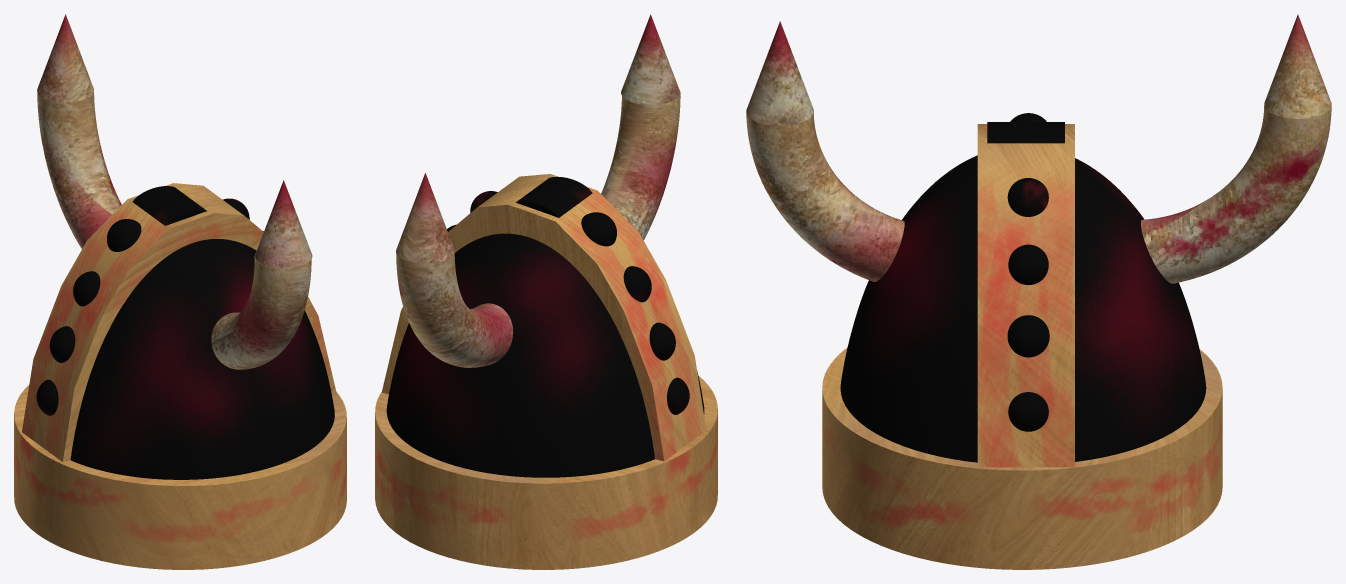
File: helmet.glb
3 renders of one model, left to right at view 1: azimuth 30°, elevation 25°; view 2: azimuth 150°, elevation 25°; view 3: azimuth 270°, elevation 25°, orthographic. The views are drawn at different scales.
Parts seen in each view (by area): view 1: Object_5, Object_7, Object_9, Object_37, Object_39, Object_35, Object_33, Object_31, Object_21, Object_19, Object_15, Object_11; view 2: Object_5, Object_7, Object_9, Object_37, Object_39, Object_35, Object_33, Object_31, Object_21, Object_19, Object_15, Object_11; view 3: Object_5, Object_7, Object_9, Object_37, Object_39, Object_35, Object_33, Object_31, Object_25, Object_27, Object_23, Object_29.
Part boxes in pixels (x1=…): Object_5: x1=70, y1=239, x2=334, y2=479; Object_7: x1=14, y1=385, x2=346, y2=569; Object_9: x1=22, y1=183, x2=336, y2=461; Object_37: x1=37, y1=92, x2=121, y2=248; Object_39: x1=211, y1=254, x2=311, y2=369; Object_35: x1=255, y1=180, x2=312, y2=268; Object_33: x1=37, y1=14, x2=93, y2=102; Object_31: x1=133, y1=186, x2=206, y2=225; Object_21: x1=107, y1=219, x2=141, y2=251; Object_19: x1=73, y1=271, x2=100, y2=306; Object_15: x1=49, y1=326, x2=75, y2=362; Object_11: x1=36, y1=379, x2=58, y2=415; Object_5: x1=386, y1=233, x2=704, y2=477; Object_7: x1=375, y1=376, x2=717, y2=569; Object_9: x1=381, y1=174, x2=706, y2=461; Object_37: x1=396, y1=252, x2=513, y2=367; Object_39: x1=601, y1=90, x2=680, y2=240; Object_35: x1=621, y1=14, x2=680, y2=104; Object_33: x1=396, y1=173, x2=454, y2=263; Object_31: x1=516, y1=176, x2=592, y2=217; Object_21: x1=581, y1=212, x2=616, y2=246; Object_19: x1=623, y1=266, x2=651, y2=302; Object_15: x1=649, y1=322, x2=675, y2=360; Object_11: x1=667, y1=377, x2=689, y2=414; Object_5: x1=840, y1=155, x2=1206, y2=462; Object_7: x1=822, y1=347, x2=1222, y2=569; Object_9: x1=977, y1=124, x2=1074, y2=467; Object_37: x1=1141, y1=106, x2=1331, y2=283; Object_39: x1=746, y1=113, x2=904, y2=281; Object_35: x1=746, y1=21, x2=813, y2=125; Object_33: x1=1264, y1=14, x2=1331, y2=118; Object_31: x1=987, y1=122, x2=1064, y2=143; Object_25: x1=1007, y1=315, x2=1049, y2=357; Object_27: x1=1008, y1=244, x2=1048, y2=285; Object_23: x1=1008, y1=392, x2=1048, y2=431; Object_29: x1=1007, y1=178, x2=1048, y2=216.
Bounding box in the file's own units: 0.2088 × 0.278 × 0.3113.
Materials: 12 (12 with a texture image).
